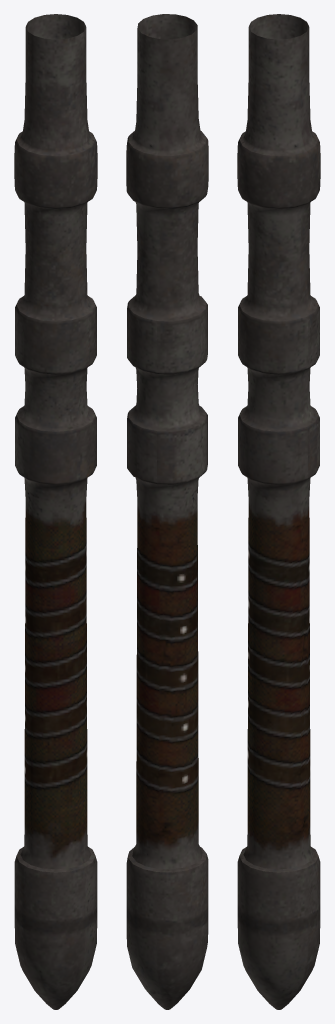
Rendered from wm_dol_goldur_1h_mace_a03_handle.fbx.
The picture shows the model from 3 angles, left to right: view 1: azimuth 90°, elevation 25°; view 2: azimuth 210°, elevation 25°; view 3: azimuth 270°, elevation 25°; orthographic projection.
Visible parts, largest first — view 1: wm_dol_goldur_1h_mace_a03_handle; view 2: wm_dol_goldur_1h_mace_a03_handle; view 3: wm_dol_goldur_1h_mace_a03_handle.
Boxes of the visible parts, x1=… form: wm_dol_goldur_1h_mace_a03_handle: x1=14, y1=14, x2=97, y2=1009; wm_dol_goldur_1h_mace_a03_handle: x1=126, y1=14, x2=208, y2=1009; wm_dol_goldur_1h_mace_a03_handle: x1=237, y1=14, x2=320, y2=1009.
Bounding box in the file's own units: 0.0404 × 0.0404 × 0.5266.
1 material, 1 textured.
